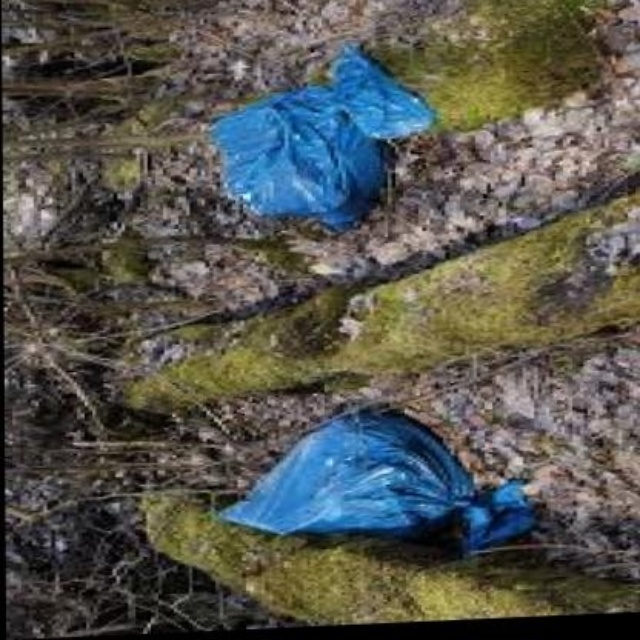trash: (220, 408, 534, 549), (211, 45, 434, 228)
